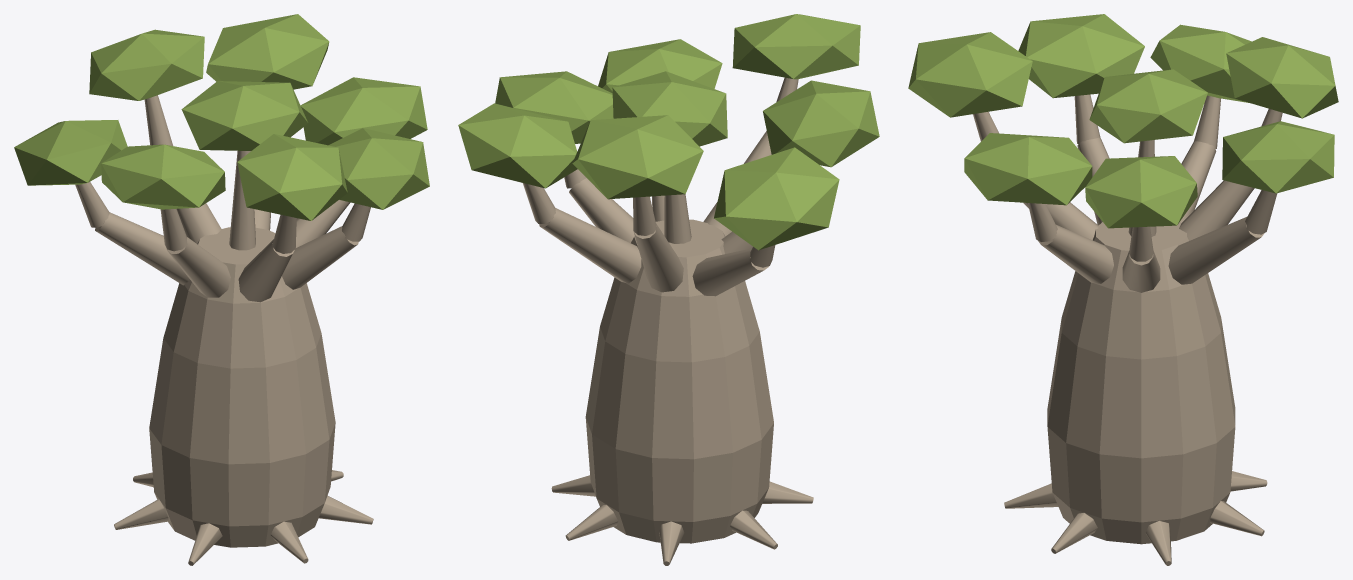
Rendered from tree_baobab.glb.
3 views of the same model, side by side, from view 1: azimuth 30°, elevation 25°; view 2: azimuth 150°, elevation 25°; view 3: azimuth 270°, elevation 25° (orthographic). The views are drawn at different scales.
Visible parts, largest first — view 1: Baobab_Bottle_Trunk, Baobab_Sparse_Canopy_05, Baobab_Central_Leaves, Baobab_Sparse_Canopy_01, Baobab_Sparse_Canopy_04, Baobab_Sparse_Canopy_02, Baobab_Sparse_Canopy_00, Baobab_Sparse_Canopy_06, Baobab_Sparse_Canopy_03, Baobab_Heavy_Bough_03, Baobab_Heavy_Bough_06, Baobab_Heavy_Bough_04 (+13 smaller); view 2: Baobab_Bottle_Trunk, Baobab_Sparse_Canopy_03, Baobab_Sparse_Canopy_02, Baobab_Sparse_Canopy_01, Baobab_Sparse_Canopy_04, Baobab_Sparse_Canopy_05, Baobab_Central_Leaves, Baobab_Sparse_Canopy_00, Baobab_Sparse_Canopy_06, Baobab_Heavy_Bough_01, Baobab_Heavy_Bough_03, Baobab_Heavy_Bough_02 (+10 smaller); view 3: Baobab_Bottle_Trunk, Baobab_Sparse_Canopy_05, Baobab_Sparse_Canopy_04, Baobab_Sparse_Canopy_06, Baobab_Sparse_Canopy_00, Baobab_Central_Leaves, Baobab_Sparse_Canopy_02, Baobab_Sparse_Canopy_01, Baobab_Sparse_Canopy_03, Baobab_Heavy_Bough_01, Baobab_Heavy_Bough_06, Baobab_Heavy_Bough_02 (+13 smaller).
Part boxes in pixels (x1,y1,x2,y2): Baobab_Bottle_Trunk: [149, 227, 335, 547]; Baobab_Sparse_Canopy_05: [237, 134, 347, 220]; Baobab_Central_Leaves: [181, 81, 308, 150]; Baobab_Sparse_Canopy_01: [206, 14, 329, 89]; Baobab_Sparse_Canopy_04: [101, 144, 225, 209]; Baobab_Sparse_Canopy_02: [89, 29, 204, 100]; Baobab_Sparse_Canopy_00: [300, 77, 427, 145]; Baobab_Sparse_Canopy_06: [328, 128, 429, 209]; Baobab_Sparse_Canopy_03: [14, 120, 127, 185]; Baobab_Heavy_Bough_03: [95, 212, 189, 285]; Baobab_Heavy_Bough_06: [282, 226, 358, 289]; Baobab_Heavy_Bough_04: [166, 237, 230, 297]; Baobab_Bottle_Trunk: [585, 219, 773, 543]; Baobab_Sparse_Canopy_03: [714, 147, 839, 250]; Baobab_Sparse_Canopy_02: [572, 115, 703, 199]; Baobab_Sparse_Canopy_01: [458, 103, 577, 188]; Baobab_Sparse_Canopy_04: [763, 80, 879, 167]; Baobab_Sparse_Canopy_05: [732, 14, 860, 79]; Baobab_Central_Leaves: [612, 71, 727, 146]; Baobab_Sparse_Canopy_00: [495, 71, 613, 143]; Baobab_Sparse_Canopy_06: [598, 39, 722, 93]; Baobab_Heavy_Bough_01: [539, 208, 641, 283]; Baobab_Heavy_Bough_03: [692, 248, 769, 296]; Baobab_Heavy_Bough_02: [633, 223, 683, 292]; Baobab_Bottle_Trunk: [1047, 222, 1235, 544]; Baobab_Sparse_Canopy_05: [908, 32, 1032, 117]; Baobab_Sparse_Canopy_04: [1018, 14, 1144, 98]; Baobab_Sparse_Canopy_06: [964, 133, 1092, 205]; Baobab_Sparse_Canopy_00: [1085, 156, 1197, 228]; Baobab_Central_Leaves: [1089, 69, 1207, 143]; Baobab_Sparse_Canopy_02: [1226, 37, 1338, 118]; Baobab_Sparse_Canopy_01: [1222, 121, 1334, 193]; Baobab_Sparse_Canopy_03: [1150, 24, 1251, 102]; Baobab_Heavy_Bough_01: [1168, 216, 1264, 284]; Baobab_Heavy_Bough_06: [1038, 224, 1113, 283]; Baobab_Heavy_Bough_02: [1179, 180, 1254, 240].
Bounding box in the file's own units: 5.86 × 6.81 × 5.89.
